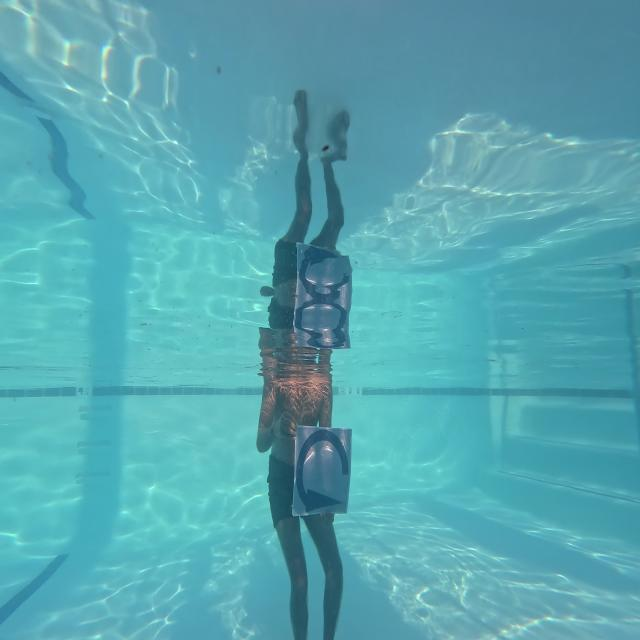blue_side: (293, 424, 351, 518)
